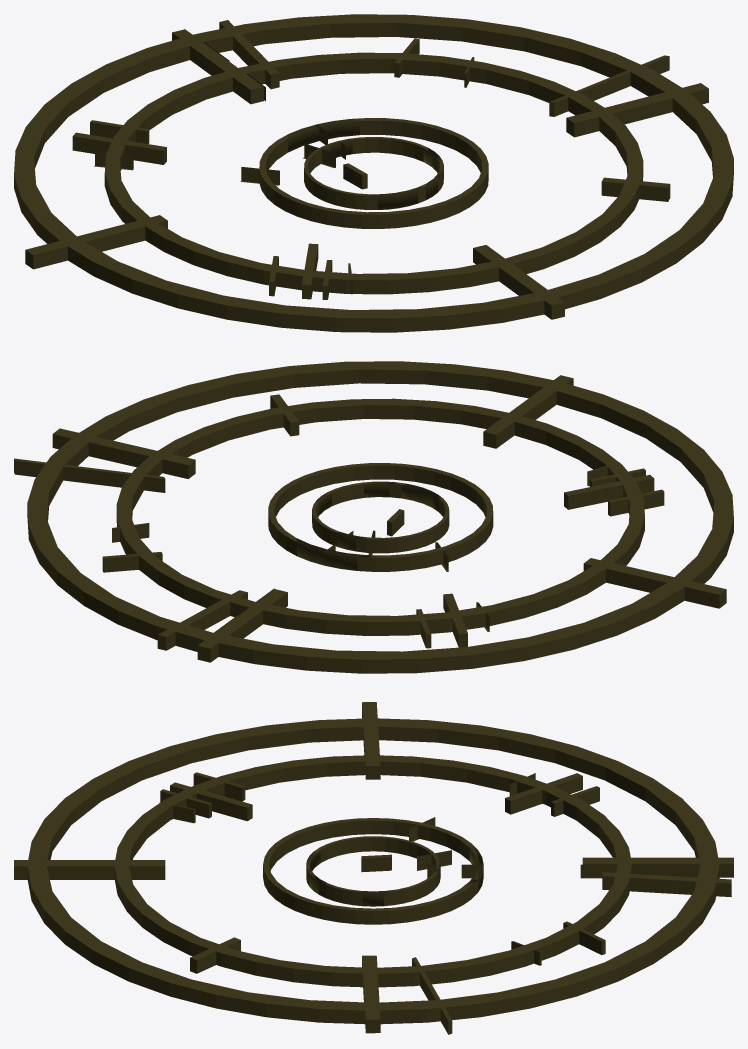
The model's file is symbol3-normal.glb.
3 views of the same model, one above another, from view 1: azimuth 30°, elevation 25°; view 2: azimuth 150°, elevation 25°; view 3: azimuth 270°, elevation 25° (orthographic). The views are drawn at different scales.
Parts seen in each view (by area): view 1: Plane.009; view 2: Plane.009; view 3: Plane.009.
Boxes of the visible parts, x1,y1,x2,y2 form: Plane.009: (14, 14, 733, 332); Plane.009: (14, 361, 733, 673); Plane.009: (14, 702, 733, 1034).
Bounding box in the file's own units: 2.51 × 0.05 × 2.39.
